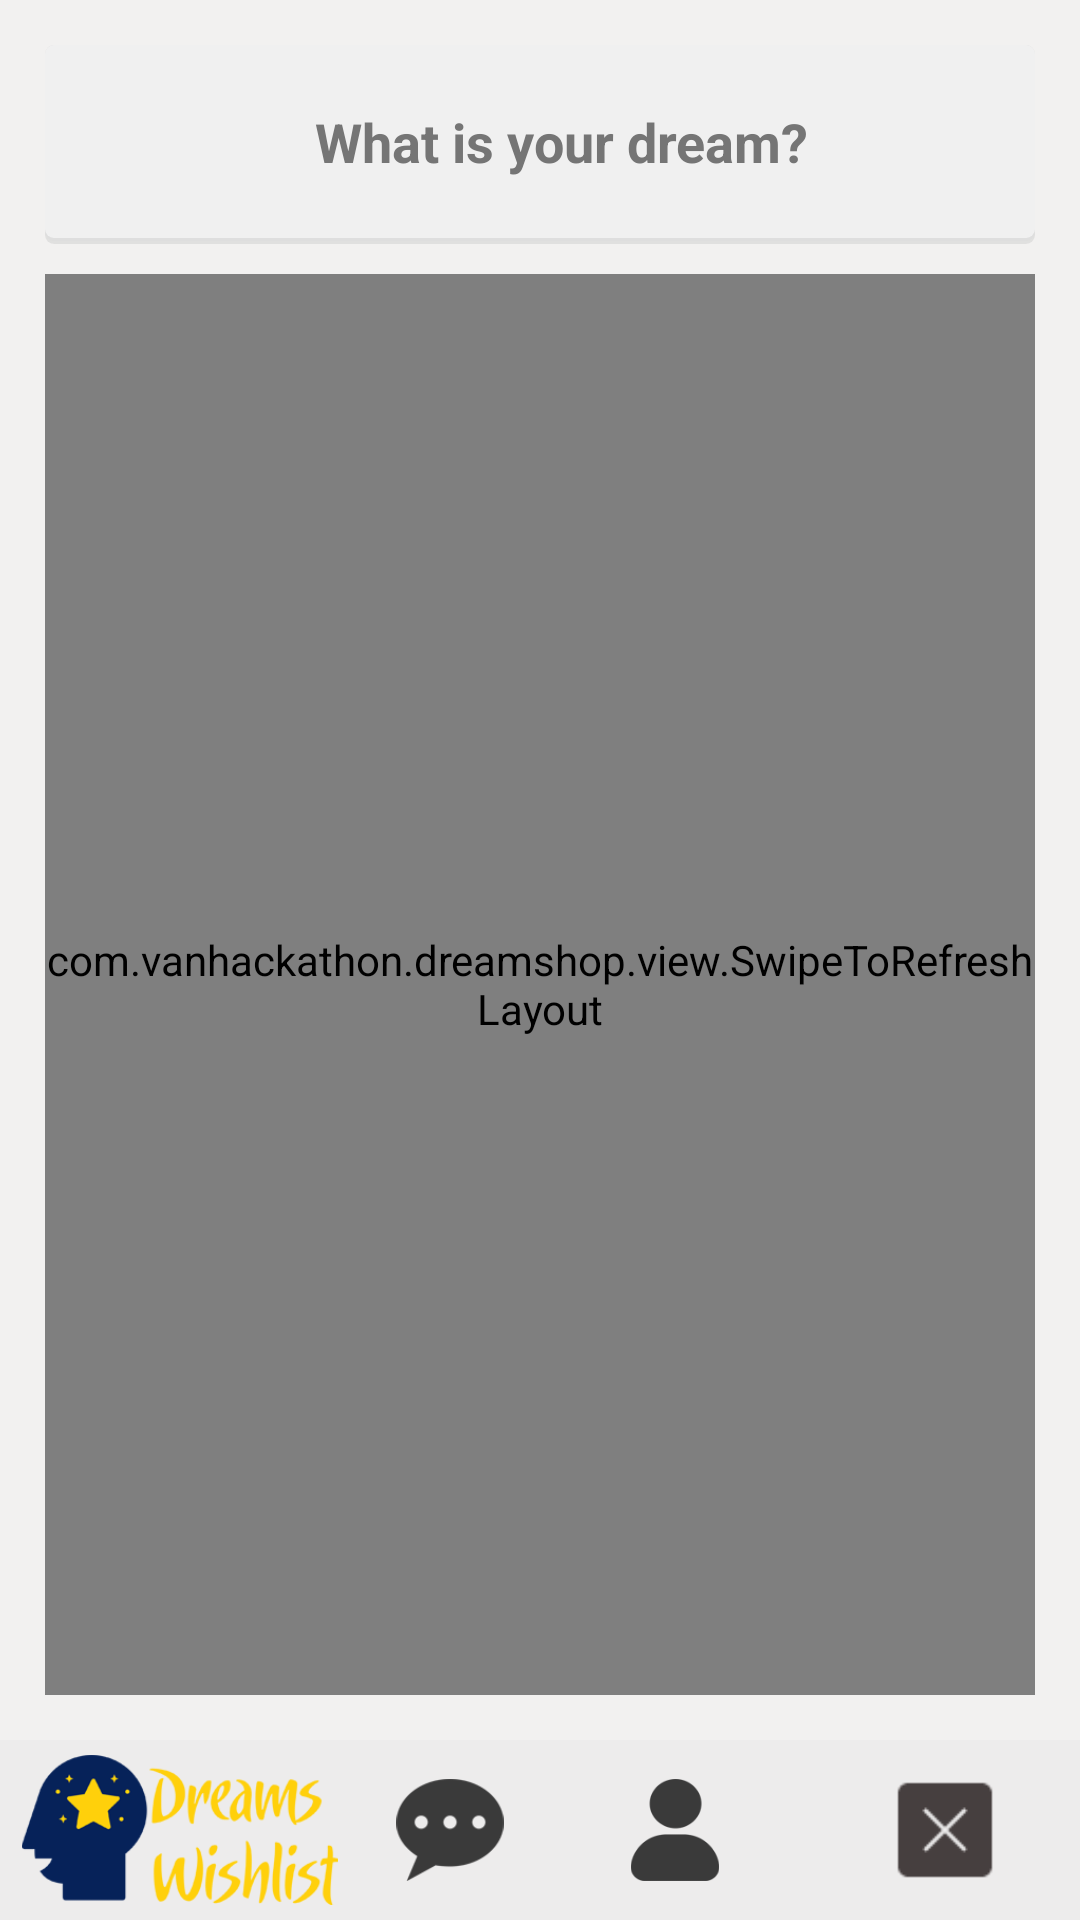

Screen size 1080w x 1920h. Icon name, then its center in pixels as (x,y):
messages: (450,1830)
user: (675,1830)
